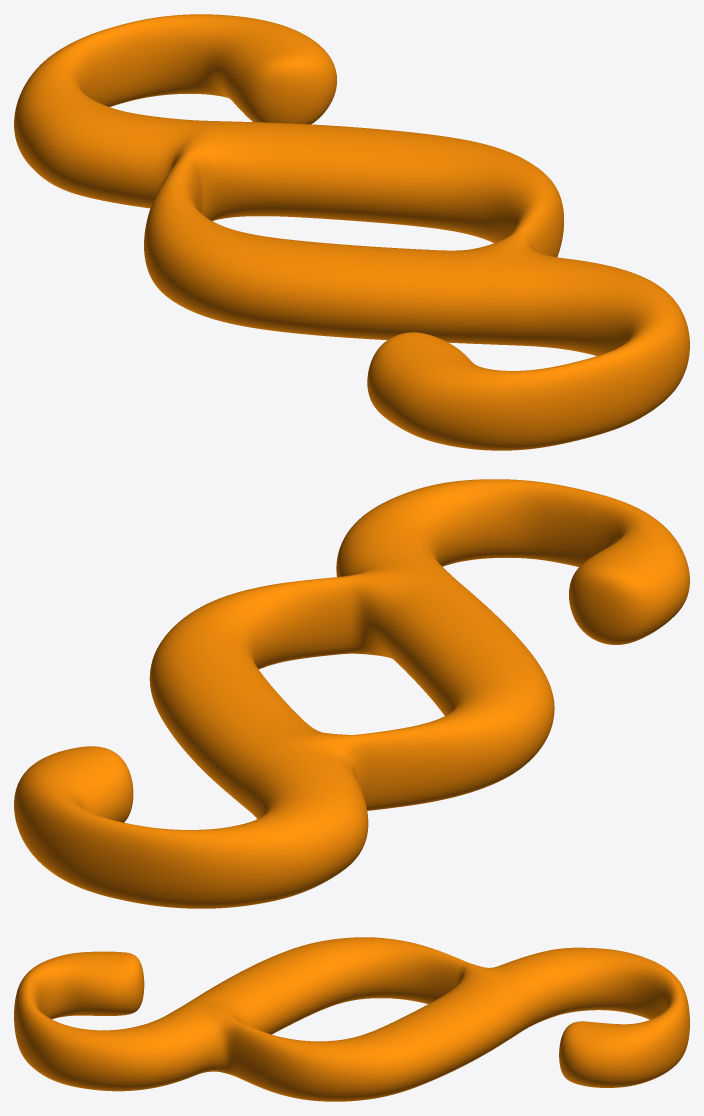
3 renders of one model, top to bottom at view 1: azimuth 30°, elevation 25°; view 2: azimuth 150°, elevation 25°; view 3: azimuth 270°, elevation 25°, orthographic. The views are drawn at different scales.
Visible parts, largest first — view 1: paragraph; view 2: paragraph; view 3: paragraph.
Part boxes in pixels (<box>): paragraph: <box>14,14,689,450</box>; paragraph: <box>14,479,689,908</box>; paragraph: <box>14,937,689,1101</box>.
Size of the model in its own units: 0.1515 by 0.0313 by 0.3351.
